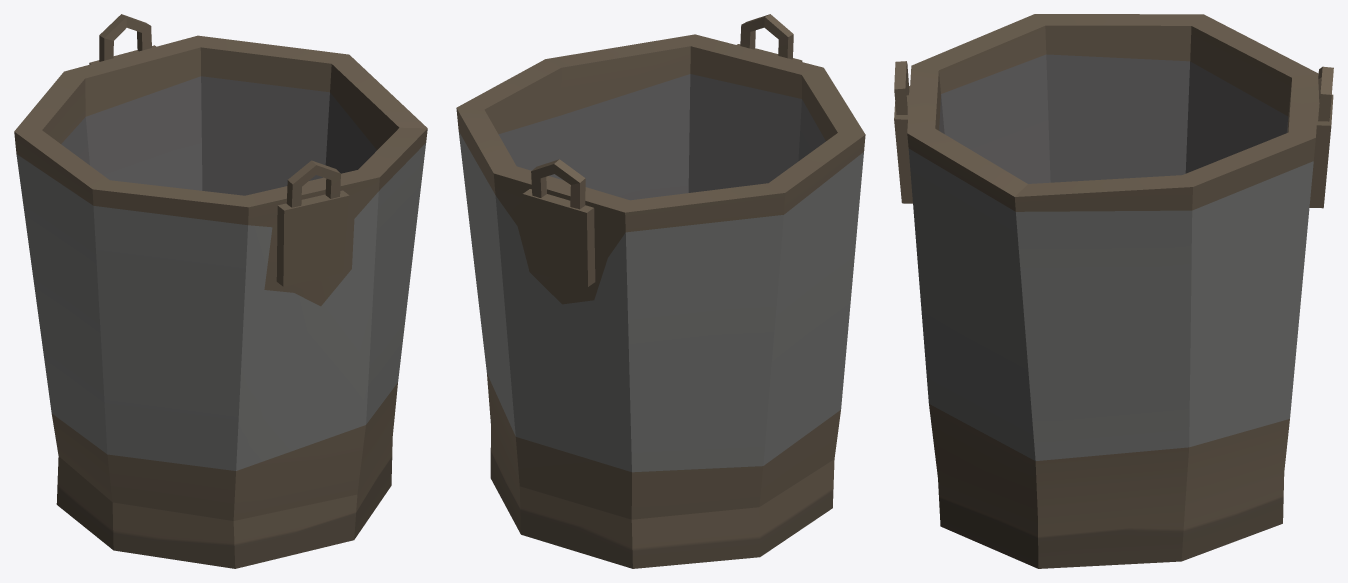
The model's file is SM_Prop_Tool_Bucket_03.obj.
3 views of the same model, side by side, from view 1: azimuth 30°, elevation 25°; view 2: azimuth 150°, elevation 25°; view 3: azimuth 270°, elevation 25° (orthographic). The views are drawn at different scales.
Parts seen in each view (by area): view 1: SM_Prop_Tool_Bucket_03_0; view 2: SM_Prop_Tool_Bucket_03_0; view 3: SM_Prop_Tool_Bucket_03_0.
Boxes of the visible parts, x1,y1,x2,y2 form: SM_Prop_Tool_Bucket_03_0: [14, 14, 427, 568]; SM_Prop_Tool_Bucket_03_0: [456, 14, 865, 568]; SM_Prop_Tool_Bucket_03_0: [894, 14, 1333, 568].
Size of the model in its own units: 0.3127 by 0.3698 by 0.336.
1 material, 1 textured.
